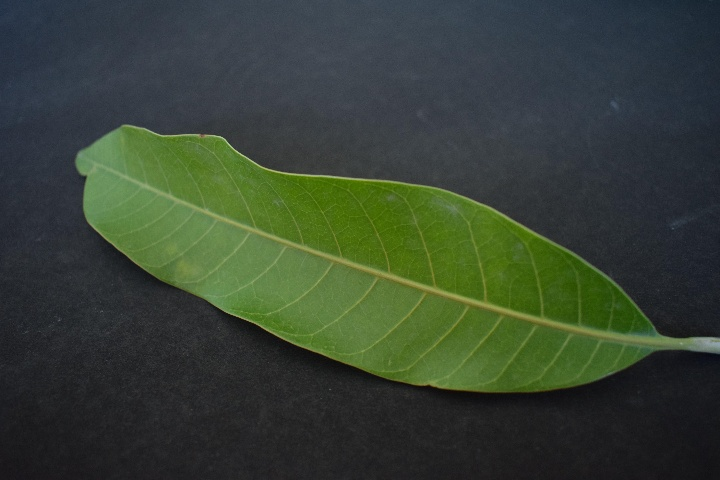healthy: (79, 121, 644, 393)
